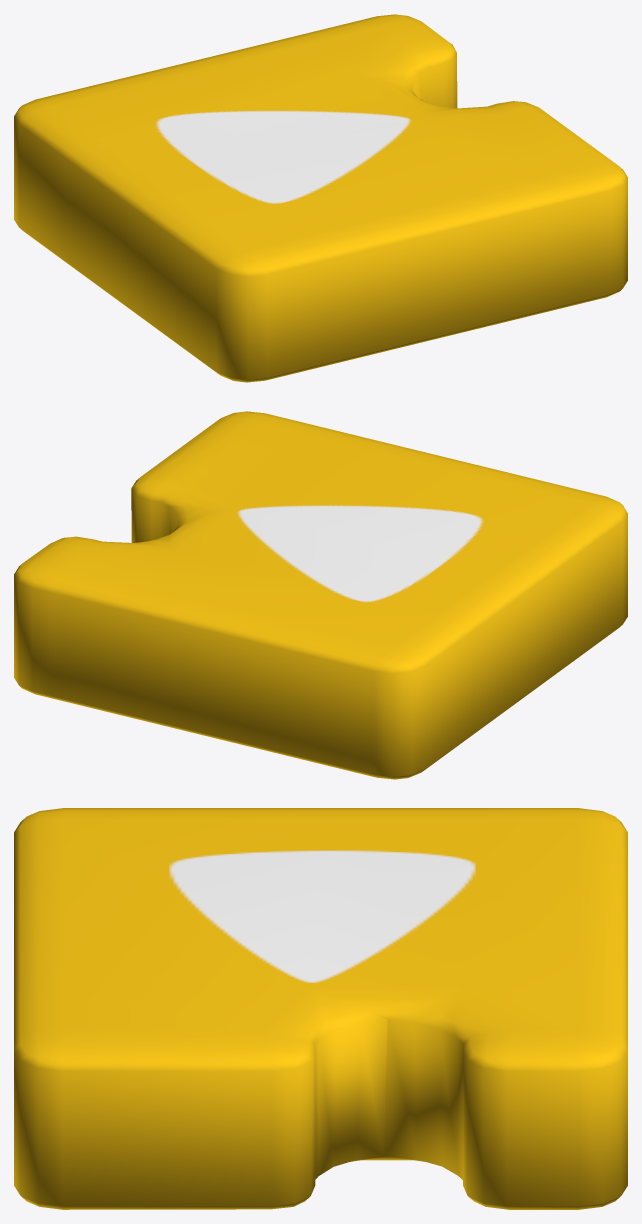
File: bloqueComenzar.fbx
3 renders of one model, top to bottom at view 1: azimuth 30°, elevation 25°; view 2: azimuth 150°, elevation 25°; view 3: azimuth 270°, elevation 25°, orthographic. The views are drawn at different scales.
Parts seen in each view (by area): view 1: BloqueComenzar; view 2: BloqueComenzar; view 3: BloqueComenzar.
Boxes of the visible parts, x1,y1,x2,y2 form: BloqueComenzar: (14,14,627,382); BloqueComenzar: (14,411,627,779); BloqueComenzar: (14,808,627,1209).
Size of the model in its own units: 200 by 57.69 by 200.
